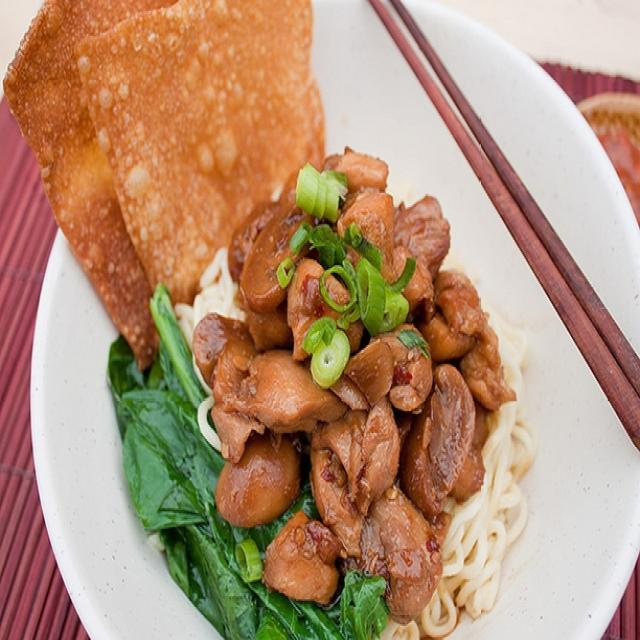面条主食: (22, 27, 601, 621)
